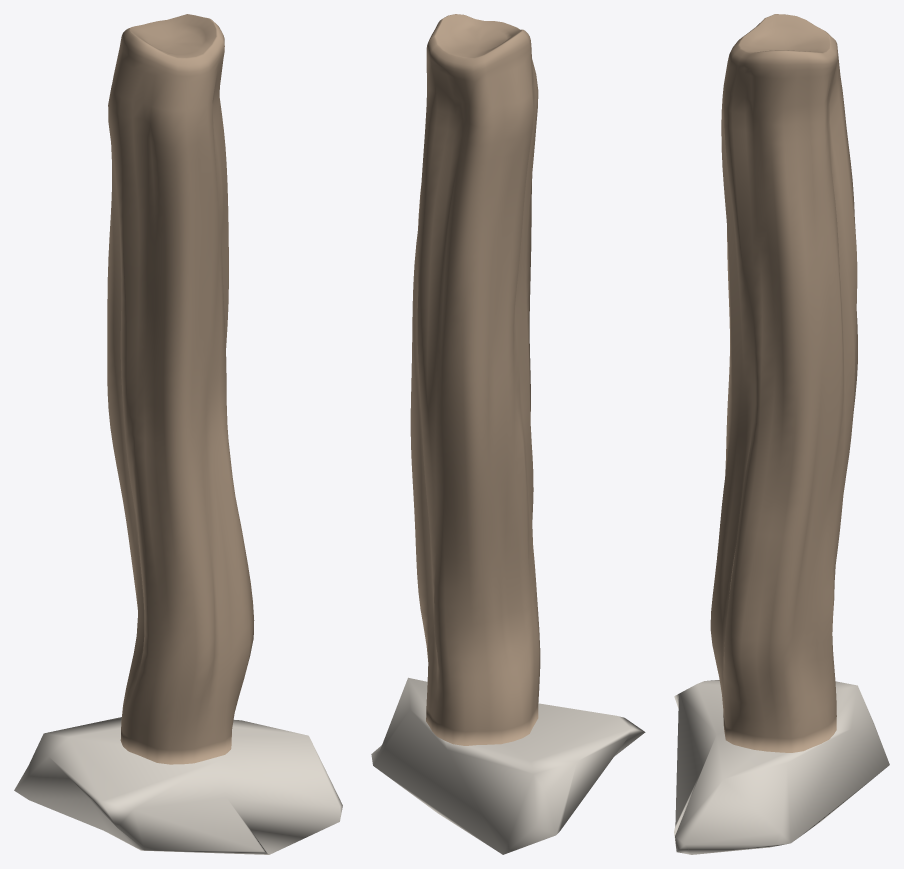
File: bagana-f3-3x9x3-v2.glb
3 views of the same model, side by side, from view 1: azimuth 30°, elevation 25°; view 2: azimuth 150°, elevation 25°; view 3: azimuth 270°, elevation 25° (orthographic).
Parts seen in each view (by area): view 1: bagana_wood, bagana_stone; view 2: bagana_wood, bagana_stone; view 3: bagana_wood, bagana_stone.
Part boxes in pixels (x1,y1,x2,y2): bagana_wood: (107, 14, 254, 764); bagana_stone: (14, 717, 342, 854); bagana_wood: (410, 14, 540, 745); bagana_stone: (371, 677, 645, 854); bagana_wood: (710, 14, 857, 752); bagana_stone: (674, 680, 889, 854).
Bounding box in the file's own units: 0.7206 × 2.31 × 0.579.
